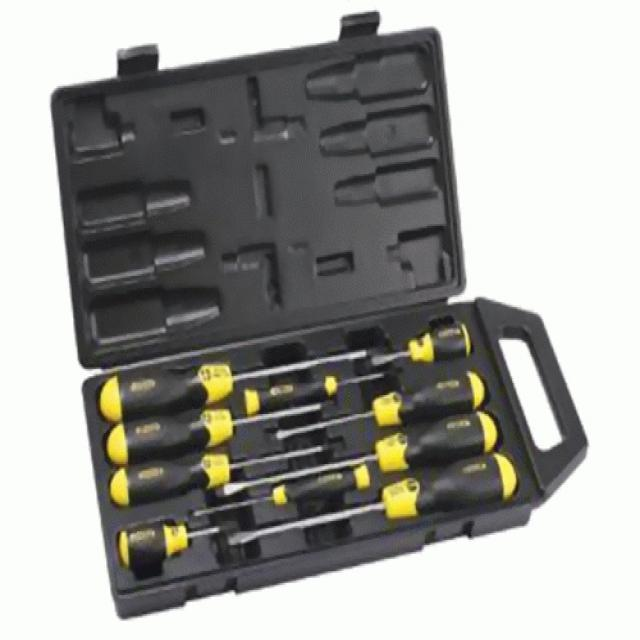screwdriver: (225, 458, 520, 568), (217, 414, 506, 499), (110, 345, 372, 413), (279, 361, 488, 445), (100, 436, 330, 500), (183, 457, 382, 520), (108, 397, 330, 451), (368, 316, 478, 376), (108, 518, 238, 564), (231, 373, 407, 398)
